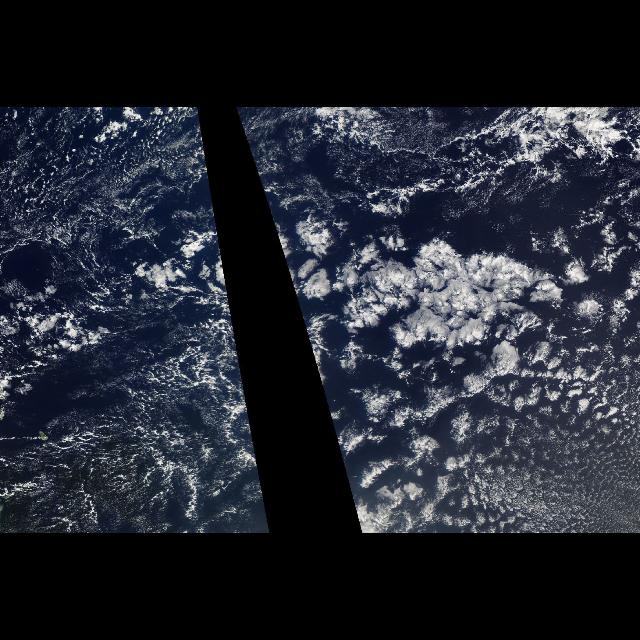Flower: (272, 208, 640, 424)
Gravel: (2, 288, 264, 532), (277, 110, 557, 220)
Sugar: (0, 325, 244, 533), (2, 110, 226, 274), (428, 409, 640, 533)
